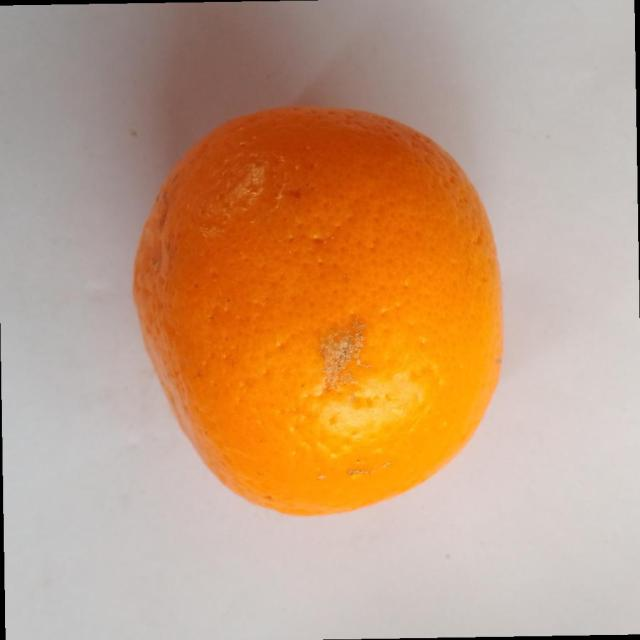fresh orange: (131, 104, 505, 517)
